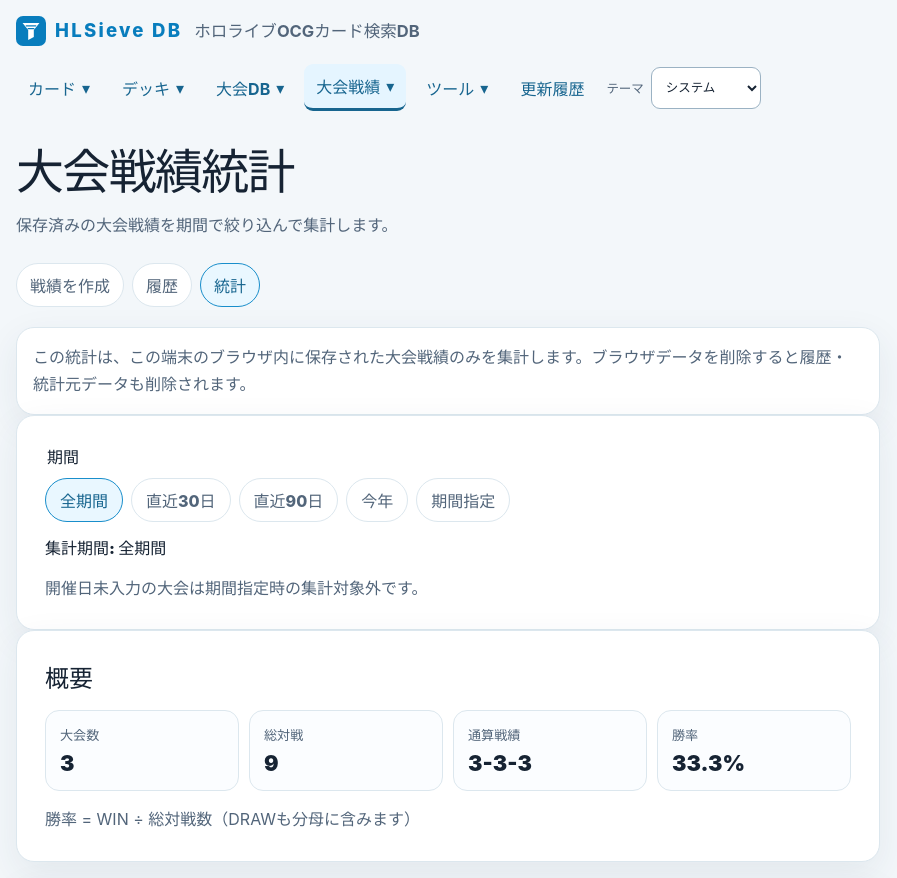
Test case: TournamentStatsPage › filters every statistic by recent periods and reports missing event dates
Expected: the heading "概要" is shown, x1=45 y1=664 x2=93 y2=693
Click the radio button labelled "直近30日": click(181, 500) x1=131 y1=478 x2=231 y2=522
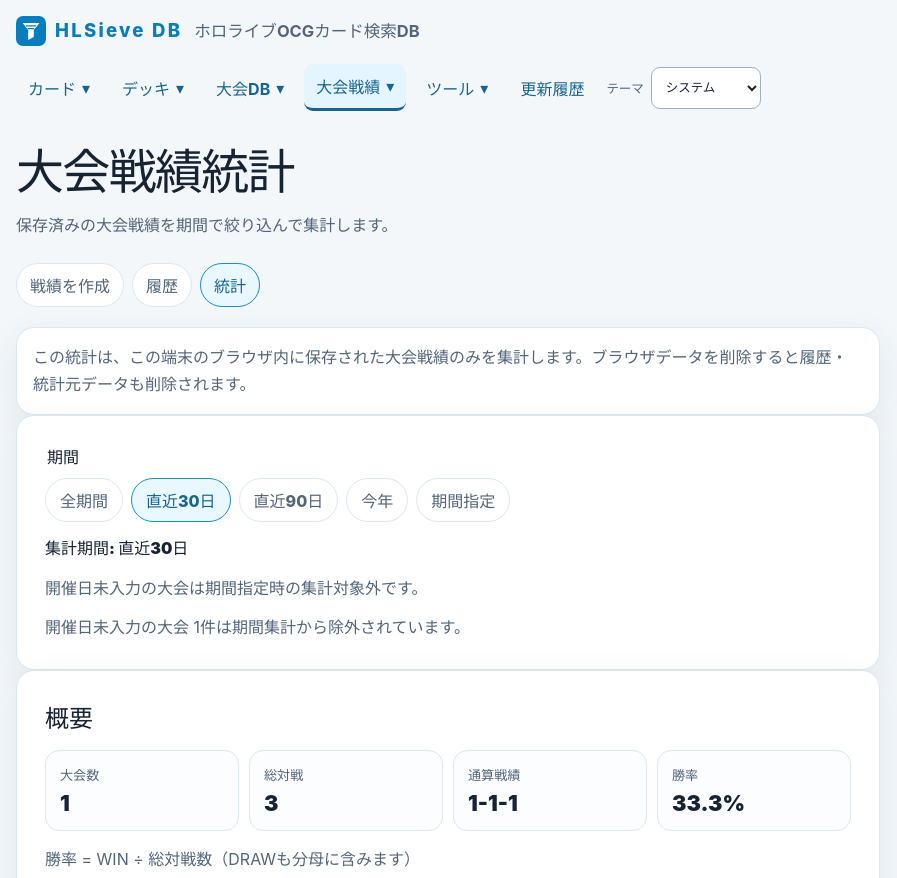
Result: the text "集計期間: 直近30日" is shown at x1=45 y1=538 x2=188 y2=558
Result: the text "開催日未入力の大会 1件は期間集計から除外されています。" is shown at x1=45 y1=617 x2=470 y2=637
Result: the text "1" is shown at x1=60 y1=790 x2=70 y2=816
Click the radio button labelled "直近90日": click(288, 500) x1=239 y1=478 x2=338 y2=522
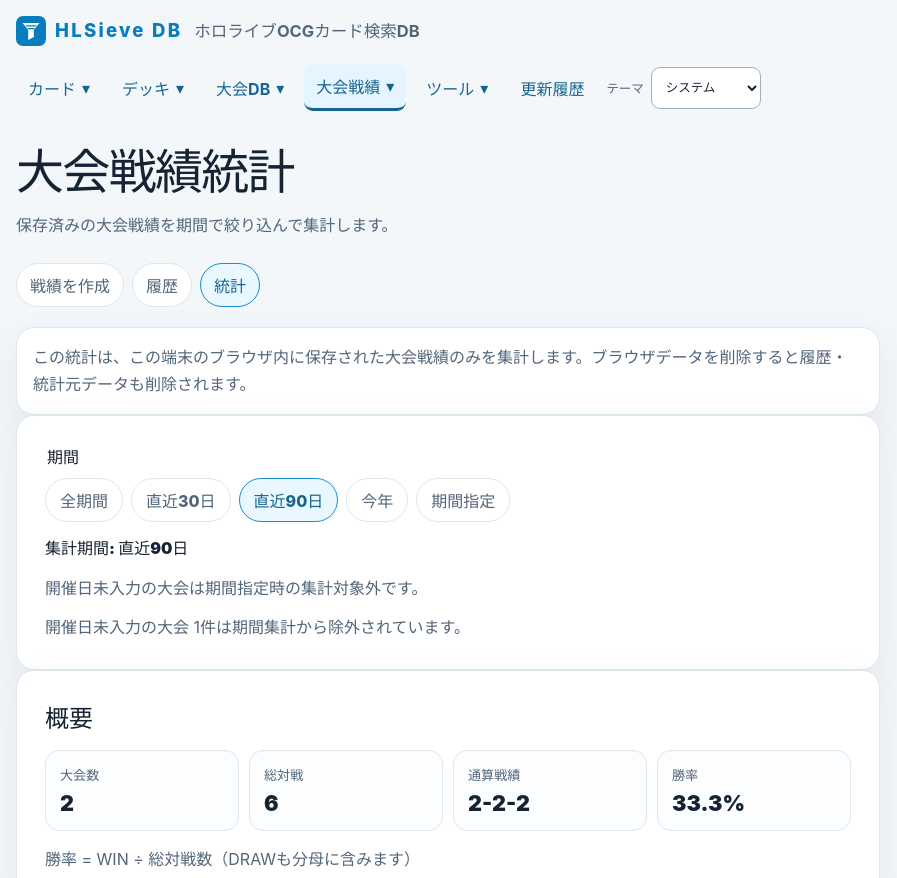
Result: the text "集計期間: 直近90日" is shown at x1=45 y1=538 x2=188 y2=558
Result: the text "2" is shown at x1=60 y1=790 x2=74 y2=816
Click the radio button labelled "今年": click(377, 500) x1=346 y1=478 x2=408 y2=522
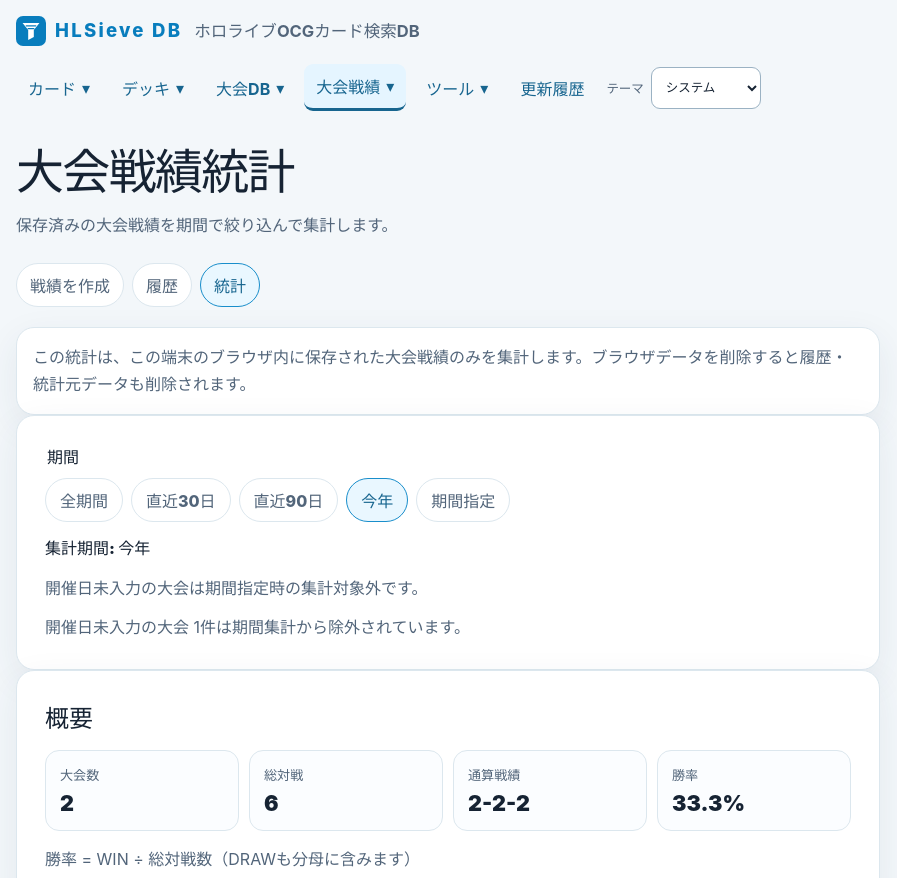
Result: the text "2" is shown at x1=60 y1=790 x2=74 y2=816
Result: the text "集計期間: 今年" is shown at x1=45 y1=538 x2=150 y2=558
